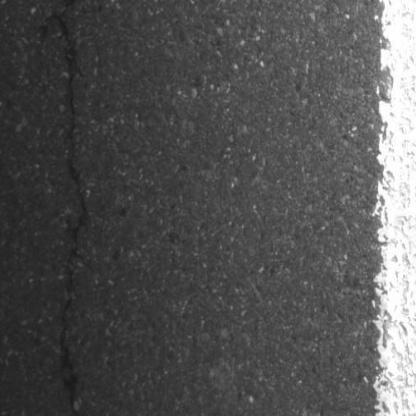Cracks: (54, 0, 94, 416)
